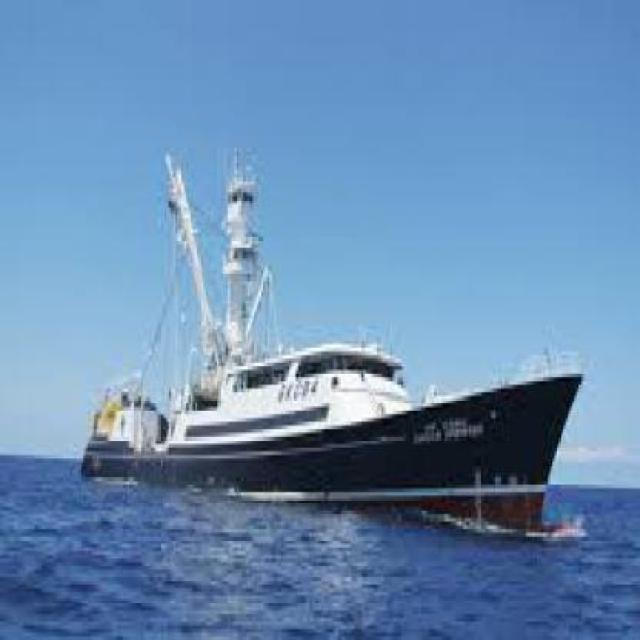fish-b: (82, 138, 602, 549)
